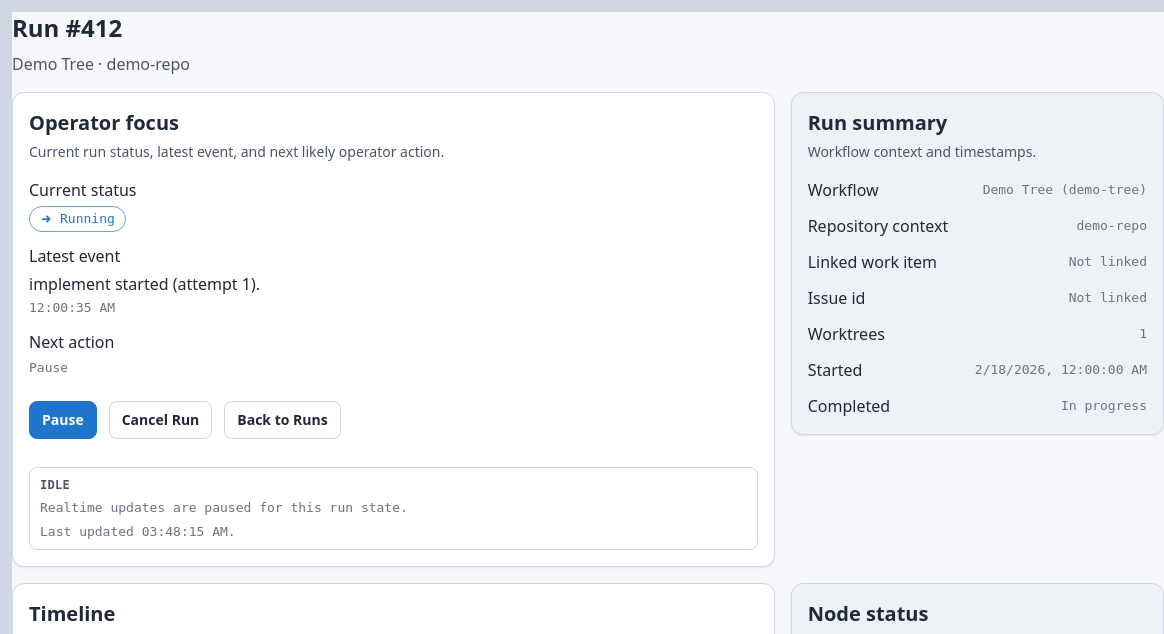
RunDetailContent realtime updates › handles cancel noop control feedback
This screenshot has width=1164, height=634.
Click the button "Cancel Run" at x=160, y=420, box [109,401,212,439]
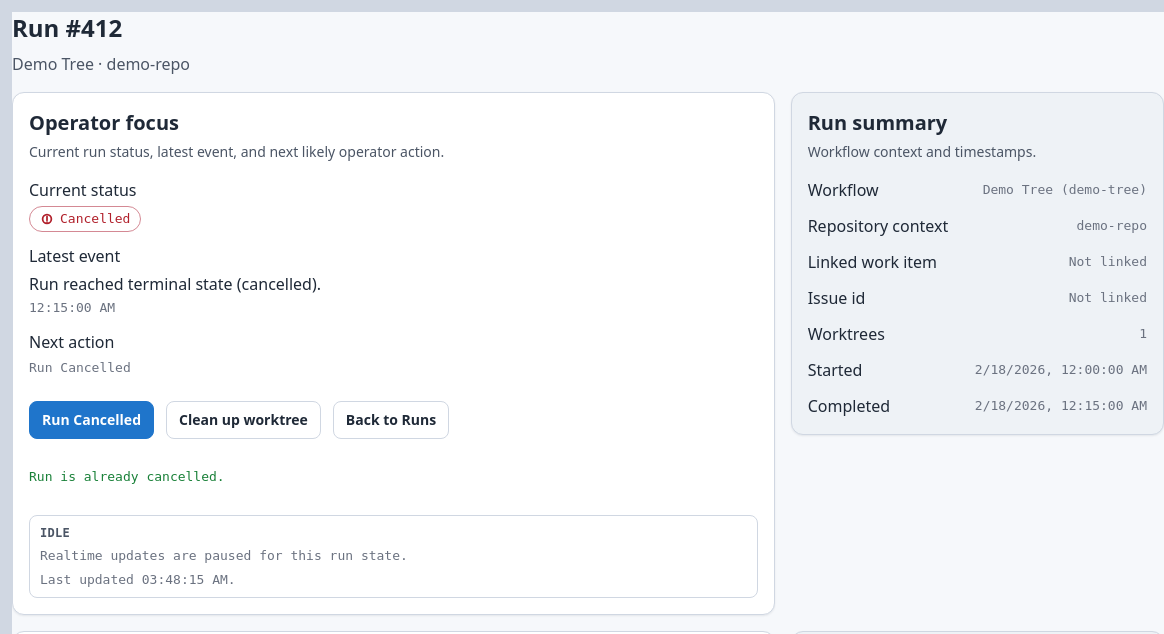
Expected: the text "Run is already cancelled." is shown, [29,469,225,484]
Expected: the button "Run Cancelled" is shown, [29,401,154,439]
